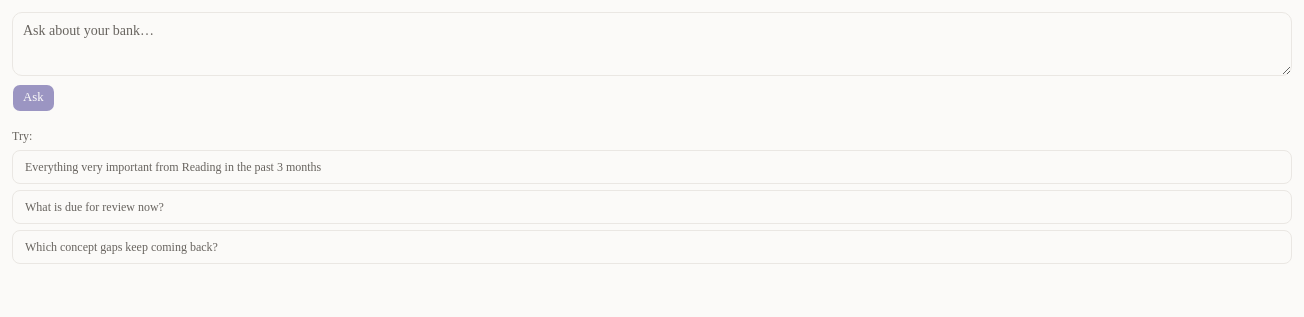
Test: Ask › says plainly when a provider is selected but its key is missing
Type "everything" into the text box labelled "Ask about your bank" at (652, 44), box [12,12,1292,76]
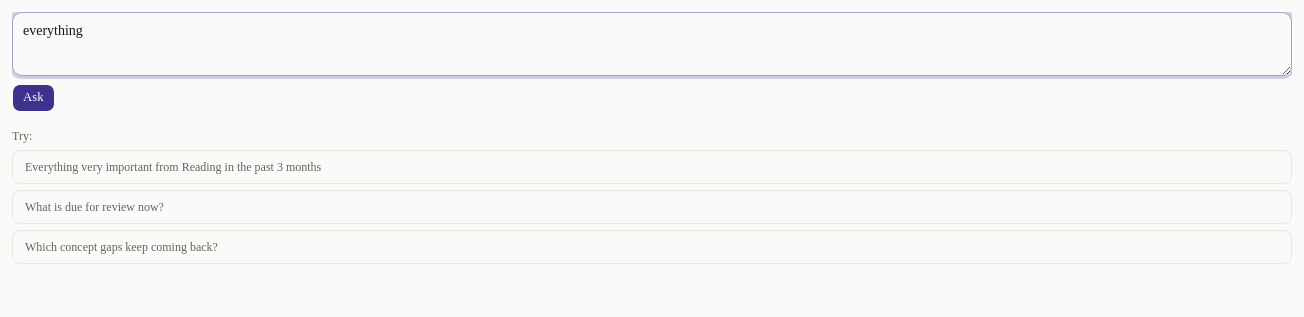
Click the button "Ask" at (33, 98), box [12,84,55,112]
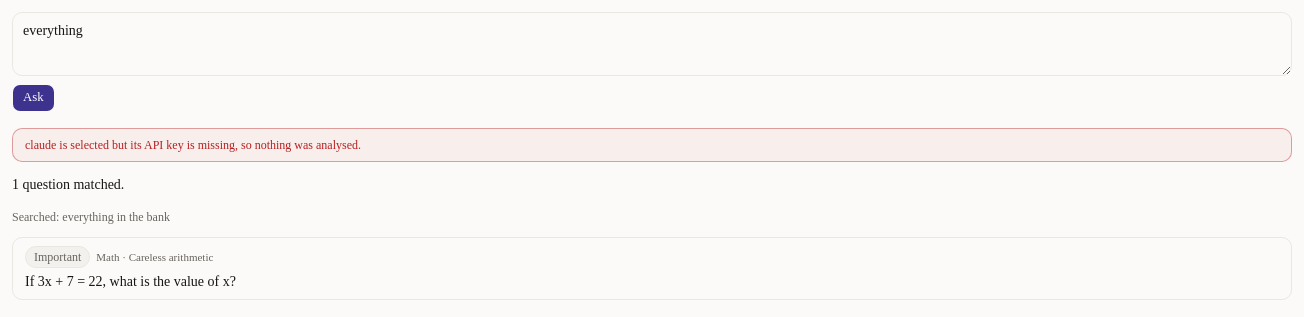
Now the text "API key is missing" is shown, box [56,138,361,152]
